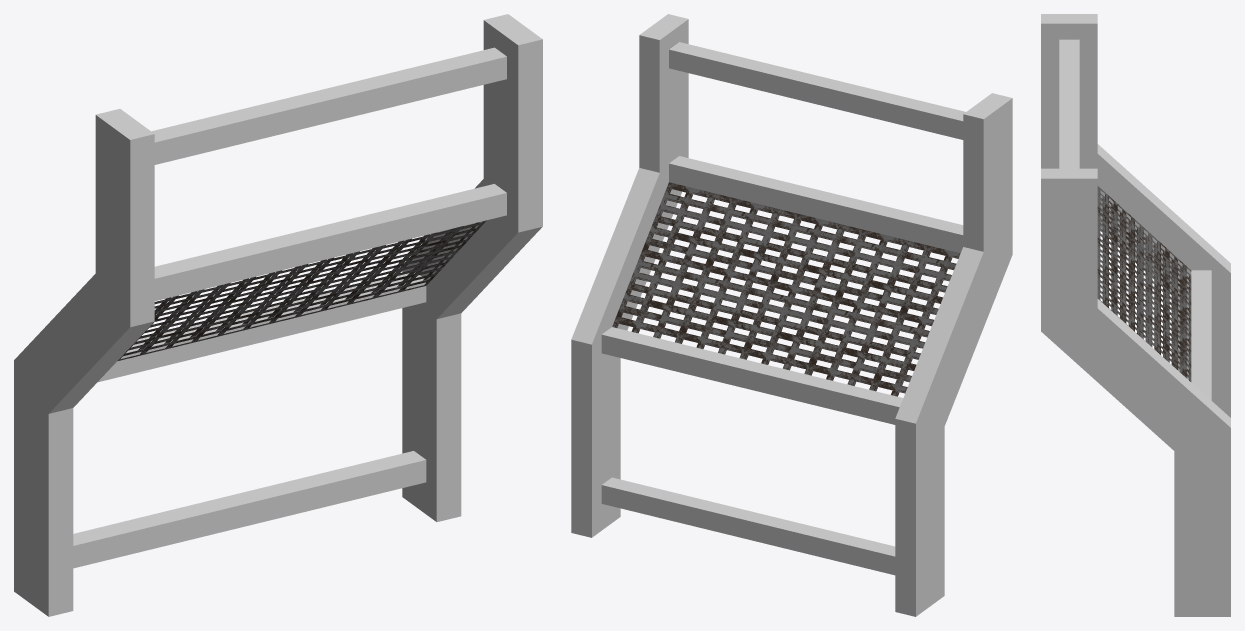
The model's file is fence_1m_02.fbx.
3 renders of one model, left to right at view 1: azimuth 30°, elevation 25°; view 2: azimuth 150°, elevation 25°; view 3: azimuth 270°, elevation 25°, orthographic. The views are drawn at different scales.
Visible parts, largest first — view 1: Cube.145, Cube.146, Cube.129, Cube.124, Cube.127, Cube.144, Cube.128, Cube.142; view 2: Cube.142, Cube.145, Cube.146, Cube.128, Cube.124, Cube.129, Cube.127, Cube.144; view 3: Cube.146, Cube.145, Cube.142, Cube.144, Cube.124, Cube.128.
Part boxes in pixels (x1,y1,x2,y2): Cube.145: [14, 109, 154, 616]; Cube.146: [402, 14, 542, 521]; Cube.129: [73, 451, 426, 568]; Cube.124: [151, 47, 506, 164]; Cube.127: [154, 184, 506, 300]; Cube.144: [117, 220, 486, 361]; Cube.128: [98, 272, 426, 382]; Cube.142: [131, 222, 479, 350]; Cube.142: [612, 182, 960, 396]; Cube.145: [895, 93, 1012, 616]; Cube.146: [571, 14, 688, 537]; Cube.128: [601, 327, 903, 424]; Cube.124: [669, 42, 965, 139]; Cube.129: [601, 477, 895, 575]; Cube.127: [669, 156, 963, 253]; Cube.144: [615, 187, 958, 396]; Cube.146: [1041, 168, 1230, 616]; Cube.145: [1041, 14, 1230, 417]; Cube.142: [1097, 186, 1191, 377]; Cube.144: [1100, 193, 1191, 381]; Cube.124: [1059, 39, 1079, 168]; Cube.128: [1191, 270, 1211, 400].
Bounding box in the file's own units: 1064 × 1321 × 518.
